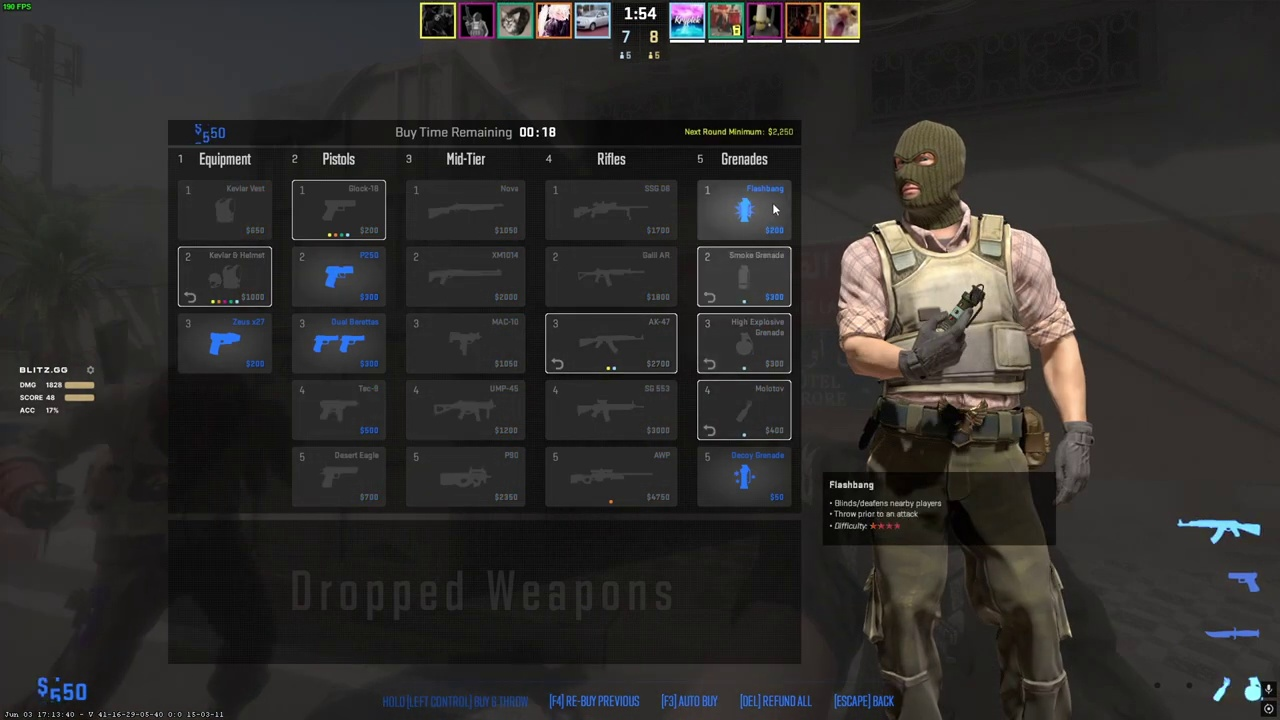Terrorist: (850, 120, 1077, 720)
